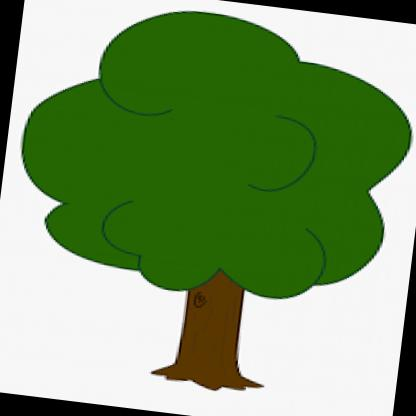crown_cloud: (0, 0, 416, 315)
knot: (188, 290, 210, 312)
root_only: (136, 359, 276, 402)
trunk_bark: (173, 308, 249, 363)
